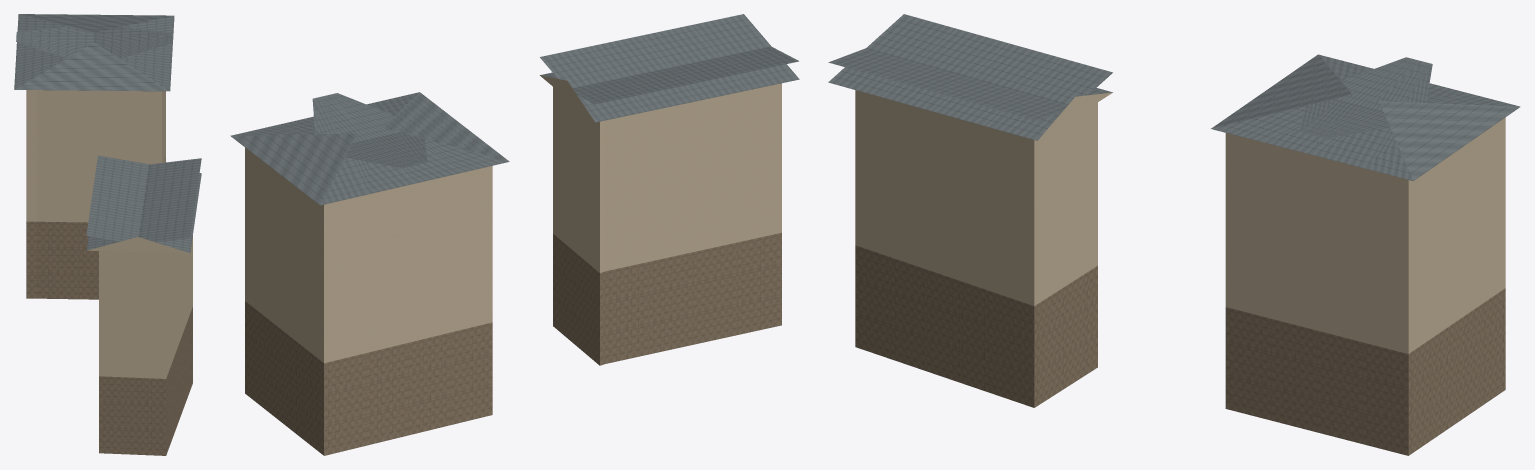
Rendered from bld_c-22_11_547.gltf.
3 renders of one model, left to right at view 1: azimuth 30°, elevation 25°; view 2: azimuth 150°, elevation 25°; view 3: azimuth 270°, elevation 25°, orthographic. The views are drawn at different scales.
Parts seen in each view (by area): view 1: bld_c-22_11_547; view 2: bld_c-22_11_547; view 3: bld_c-22_11_547.
Part boxes in pixels (x1,y1,x2,y2): bld_c-22_11_547: [14, 14, 201, 455]; bld_c-22_11_547: [230, 14, 799, 455]; bld_c-22_11_547: [828, 14, 1520, 455].
Bounding box in the file's own units: 19.46 × 16.4 × 31.45.
4 materials, 4 textured.
